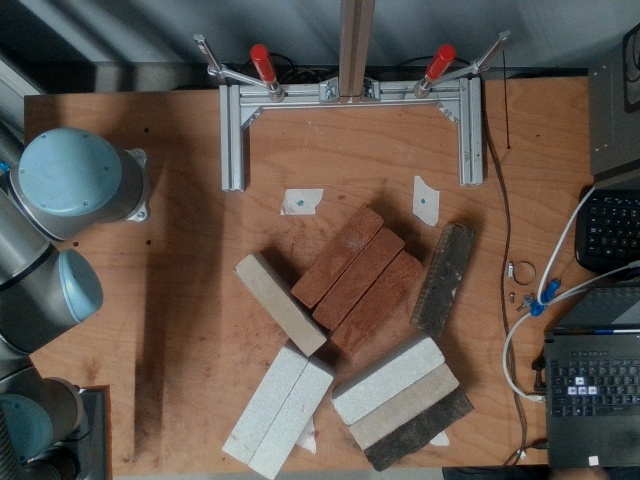brick-side: (335, 338, 445, 424), (349, 365, 459, 450), (249, 365, 331, 478), (364, 389, 473, 473), (224, 350, 305, 463), (332, 248, 421, 348), (293, 207, 381, 307), (313, 229, 401, 329), (236, 257, 323, 354), (420, 225, 476, 336)
